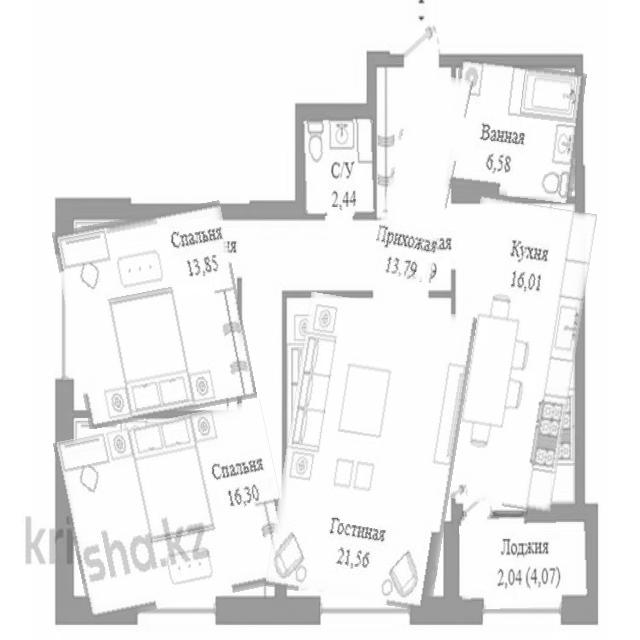balcony: (460, 513, 596, 608)
bathroom: (448, 62, 584, 200), (302, 116, 375, 216)
hallway: (381, 71, 463, 282)
kitchen: (446, 200, 586, 510)
living_room: (276, 298, 466, 606), (61, 410, 290, 614), (60, 207, 249, 422)
